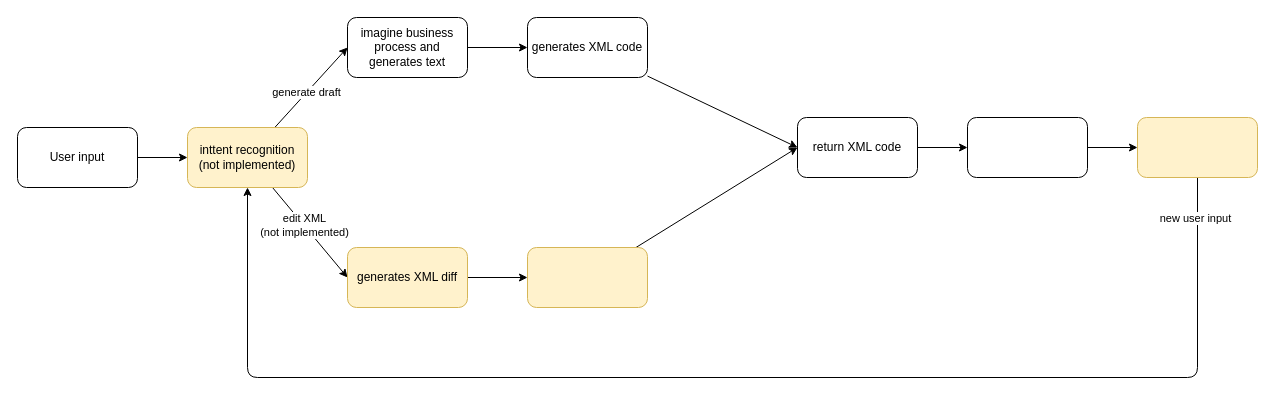
The diagram is 1275 pixels wide and 403 high, and some of its shapes have lost their labels. The centre of each missing label's shape, as x and y in pixels:
change XML by SCRIPT: point (587, 277)
render XML on frontend: point (1027, 147)
wait for user input (not implemented): point (1197, 147)
